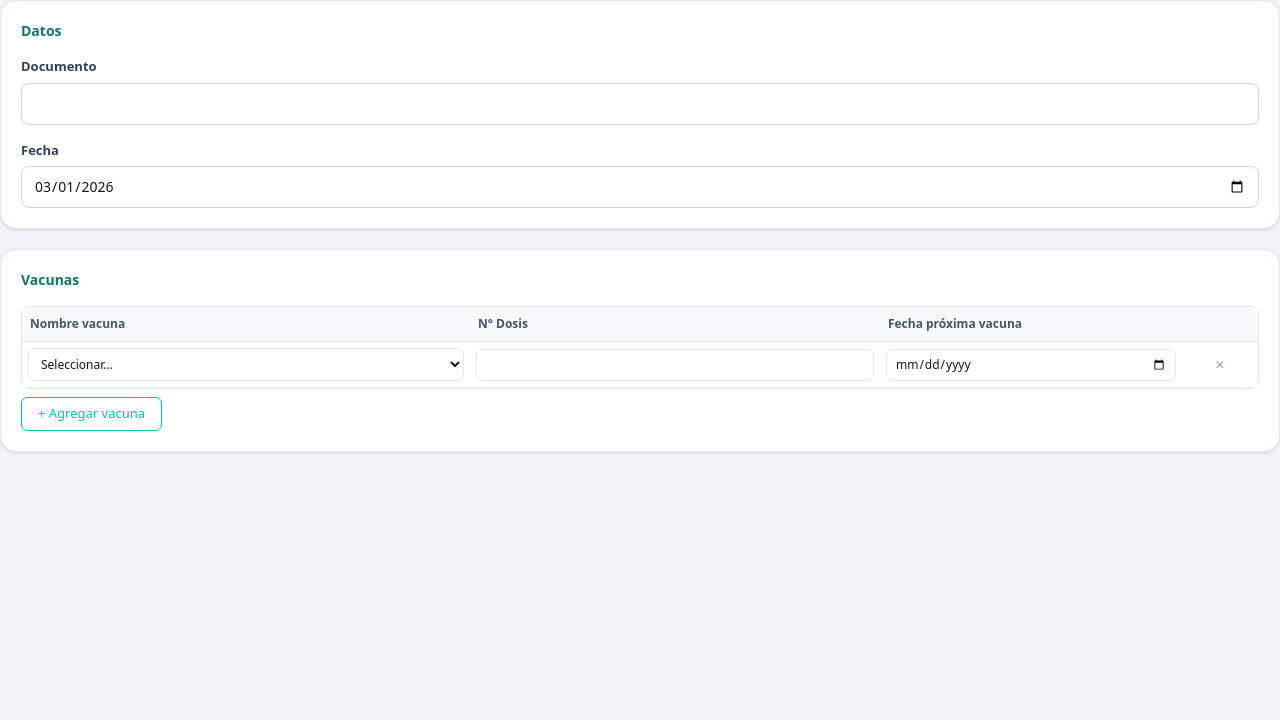
Test: ConsentRenderer consulta del historial › I5: si la consulta falla avisa que no se pudo consultar (no se lee como 'sin historial')
The width and height of the screenshot is (1280, 720).
Type "12345678" into the field labelled "Documento".
click(640, 104); type("12345678")  # box [21,82,1259,124]
Wait 700 ms
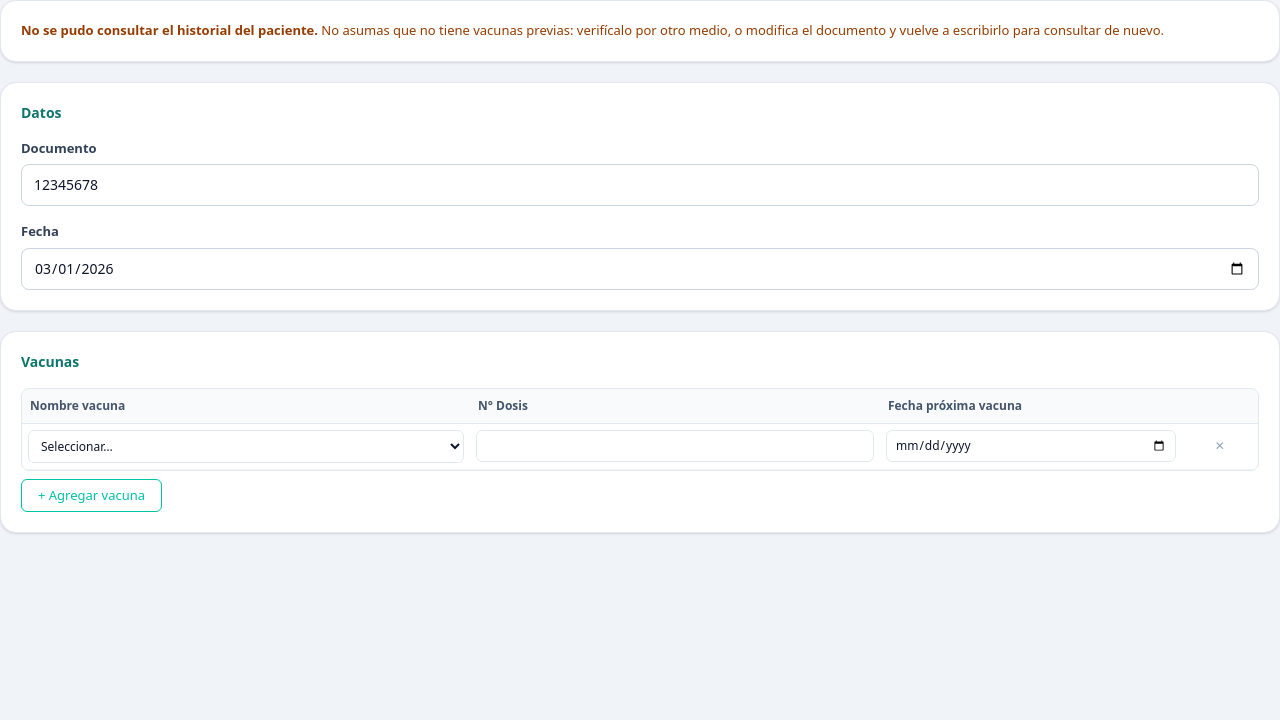
Expected: the message shows "No se pudo consultar el historial", [21,21,318,39]
